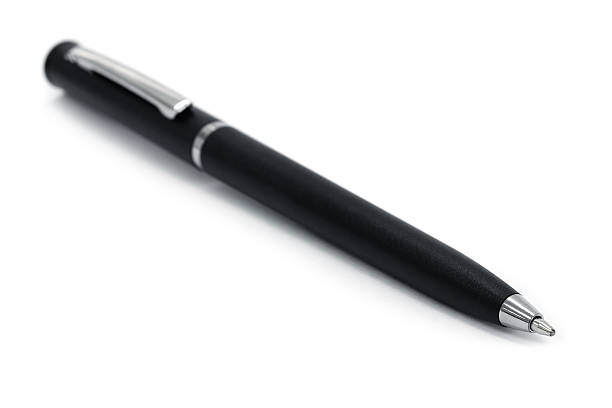pen: (36, 32, 570, 351)
